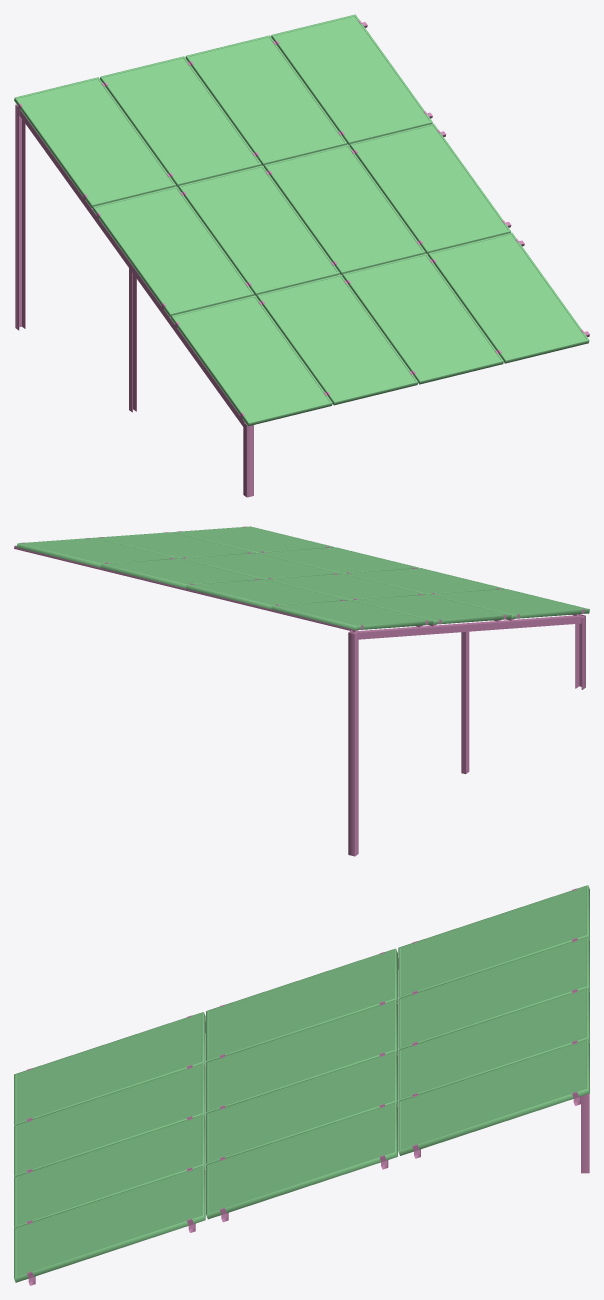
The model's file is Panel_3_Middle.fbx.
3 views of the same model, one above another, from view 1: azimuth 30°, elevation 25°; view 2: azimuth 150°, elevation 25°; view 3: azimuth 270°, elevation 25° (orthographic). The views are drawn at different scales.
Visible parts, largest first — view 1: Panel_3_Middle_LOD0; view 2: Panel_3_Middle_LOD0; view 3: Panel_3_Middle_LOD0.
Part boxes in pixels (x1,y1,x2,y2): Panel_3_Middle_LOD0: [14, 14, 589, 497]; Panel_3_Middle_LOD0: [14, 526, 589, 856]; Panel_3_Middle_LOD0: [14, 885, 589, 1285].
Size of what is drawn, in the model's own units: 4.14 by 2.63 by 4.84.
